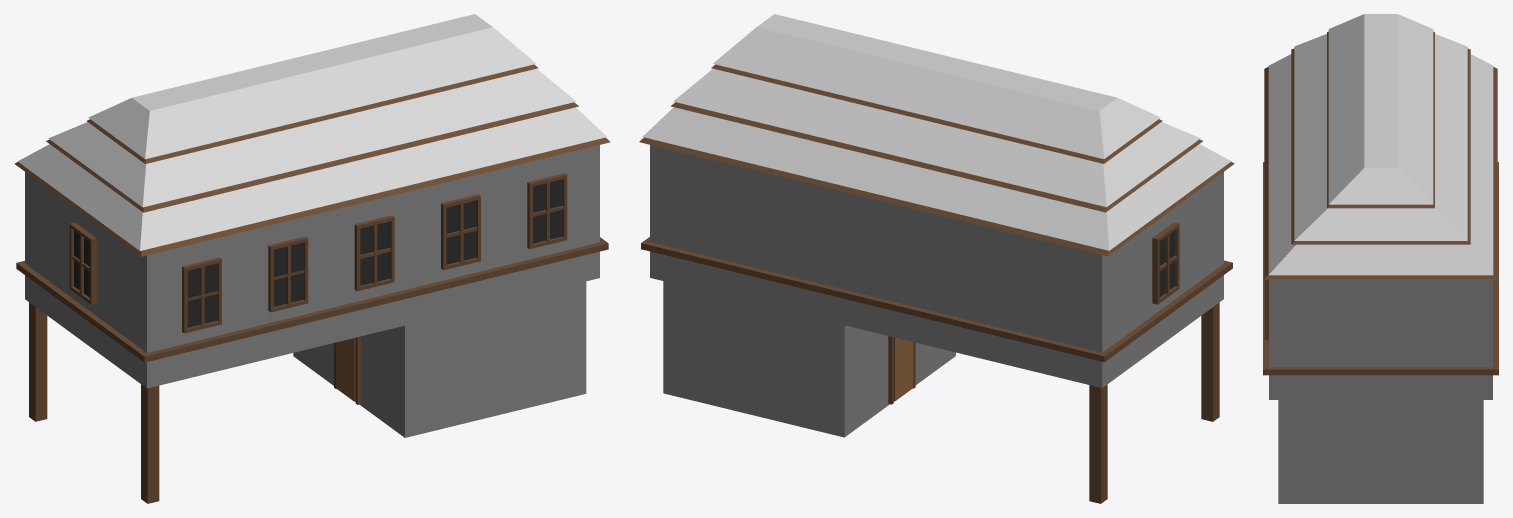
File: ArcheryRange_base_snow_mat.fbx
3 views of the same model, side by side, from view 1: azimuth 30°, elevation 25°; view 2: azimuth 150°, elevation 25°; view 3: azimuth 270°, elevation 25° (orthographic). The views are drawn at different scales.
Parts seen in each view (by area): view 1: ArcheryRange_base_snow_mat; view 2: ArcheryRange_base_snow_mat; view 3: ArcheryRange_base_snow_mat.
Boxes of the visible parts, left/top/right/bottom form: ArcheryRange_base_snow_mat: left=14, top=14, right=610, bottom=503; ArcheryRange_base_snow_mat: left=639, top=14, right=1234, bottom=503; ArcheryRange_base_snow_mat: left=1263, top=14, right=1498, bottom=503.
Size of the model in its own units: 648 by 453 by 307.
